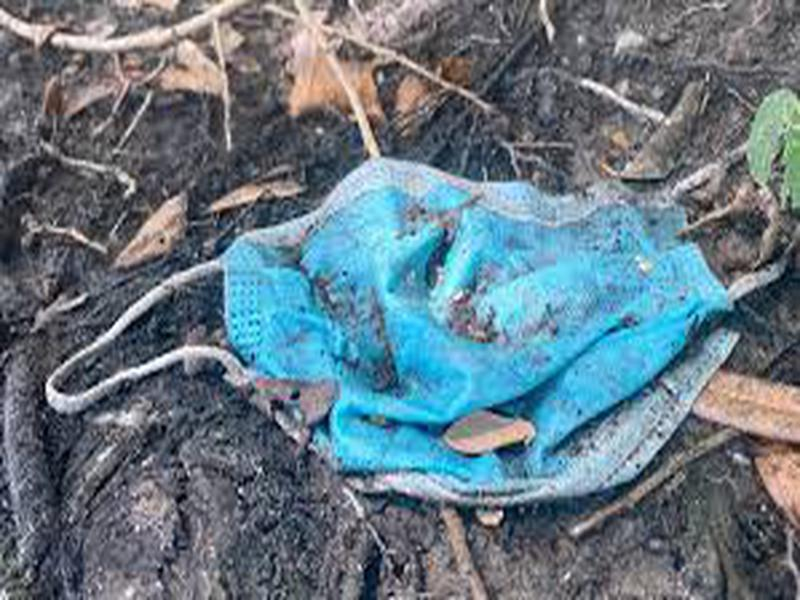leaf: (283, 26, 387, 125), (100, 184, 194, 270), (694, 369, 800, 445), (442, 407, 536, 459)
mask: (43, 152, 776, 534)
